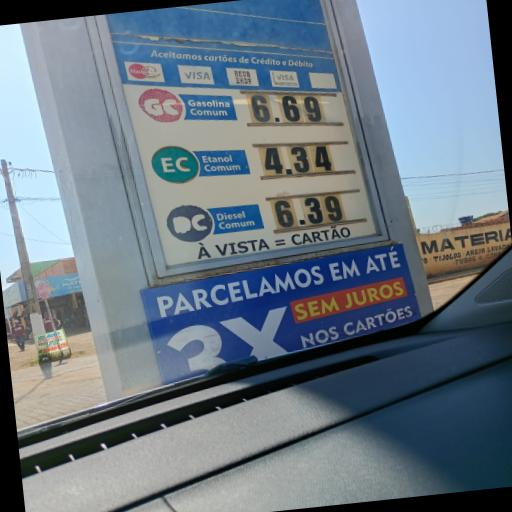ETANOL: (142, 140, 257, 188)
GASOLINA C: (133, 85, 242, 129)
S500: (158, 196, 270, 247)
placa: (123, 81, 383, 255)
preco: (270, 191, 350, 232), (258, 140, 339, 179), (240, 92, 331, 125)
